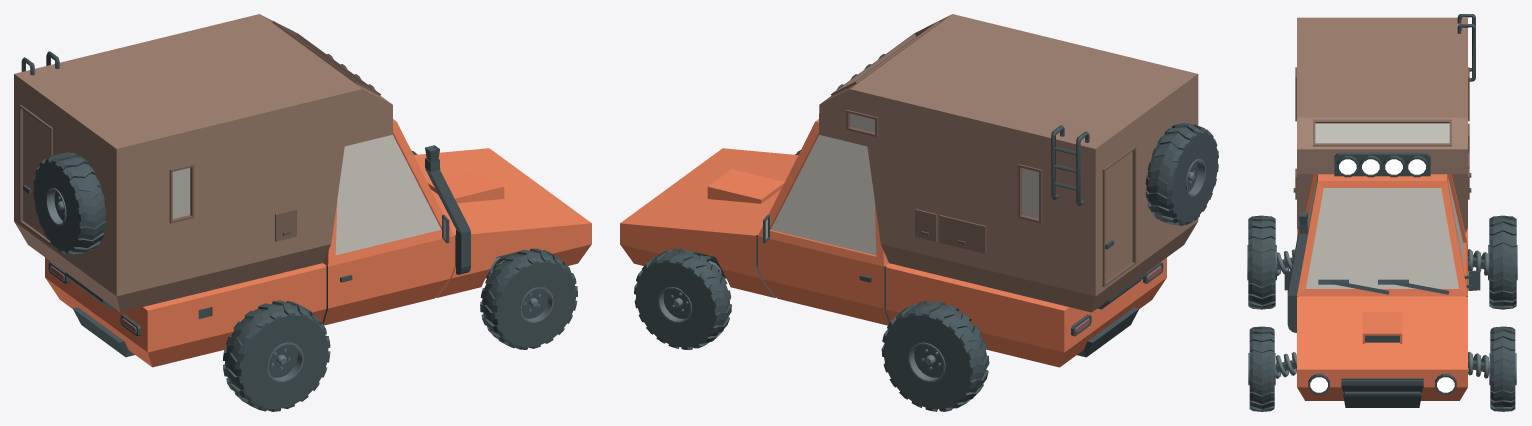
File: truck-drifter.optimized.glb
3 views of the same model, side by side, from view 1: azimuth 30°, elevation 25°; view 2: azimuth 150°, elevation 25°; view 3: azimuth 270°, elevation 25° (orthographic). The views are drawn at different scales.
Visible parts, largest first — view 1: Front_wheel_Black_0, Frame_Glass_0; view 2: Front_wheel_Black_0, Frame_Glass_0; view 3: Front_wheel_Black_0, Frame_Glass_0, Frame_Light_0.
Part boxes in pixels (<box>): Front_wheel_Black_0: <box>14,14,591,411</box>; Frame_Glass_0: <box>172,135,446,255</box>; Front_wheel_Black_0: <box>620,14,1218,411</box>; Frame_Glass_0: <box>765,113,1038,255</box>; Front_wheel_Black_0: <box>1247,14,1517,411</box>; Frame_Glass_0: <box>1306,123,1463,288</box>; Frame_Light_0: <box>1310,159,1454,392</box>.
Bounding box in the file's own units: 575 × 310 × 316.
Materials: 3 (3 with a texture image).
